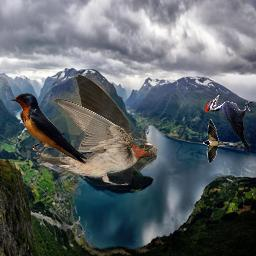Swallow: (35, 74, 158, 186), (9, 93, 87, 165), (203, 119, 236, 164)
Woodpecker: (205, 92, 252, 159)
